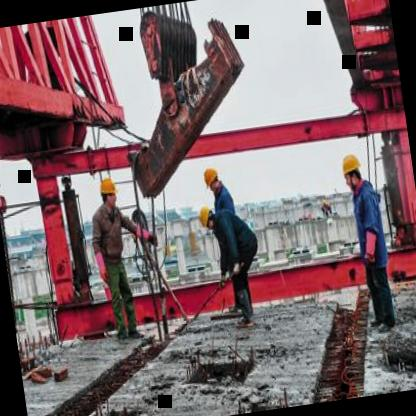helmet: (338, 148, 366, 193), (94, 172, 119, 209), (192, 199, 218, 233), (200, 165, 224, 194)
